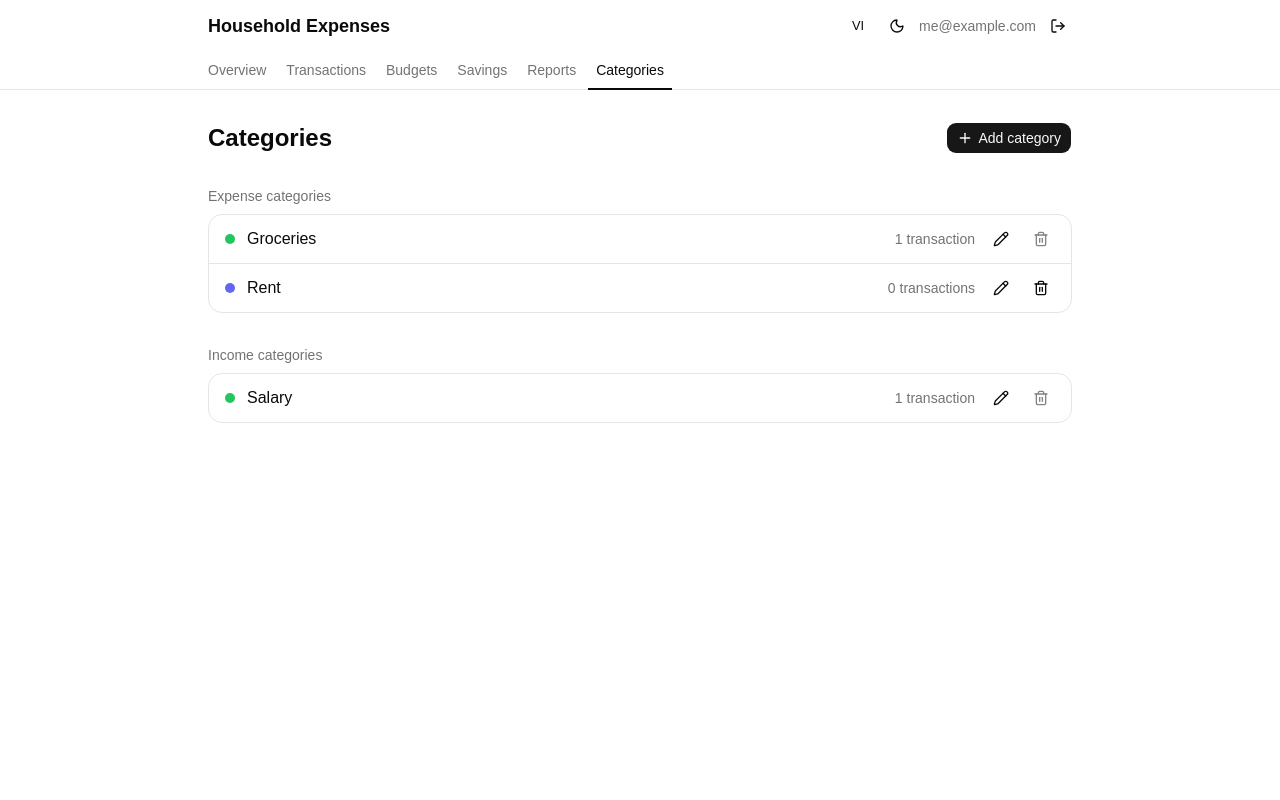
it: categories page › adds a category
This screenshot has width=1280, height=800.
Click the button "Add category". click: [1009, 138]
box: 946,122 -> 1072,154
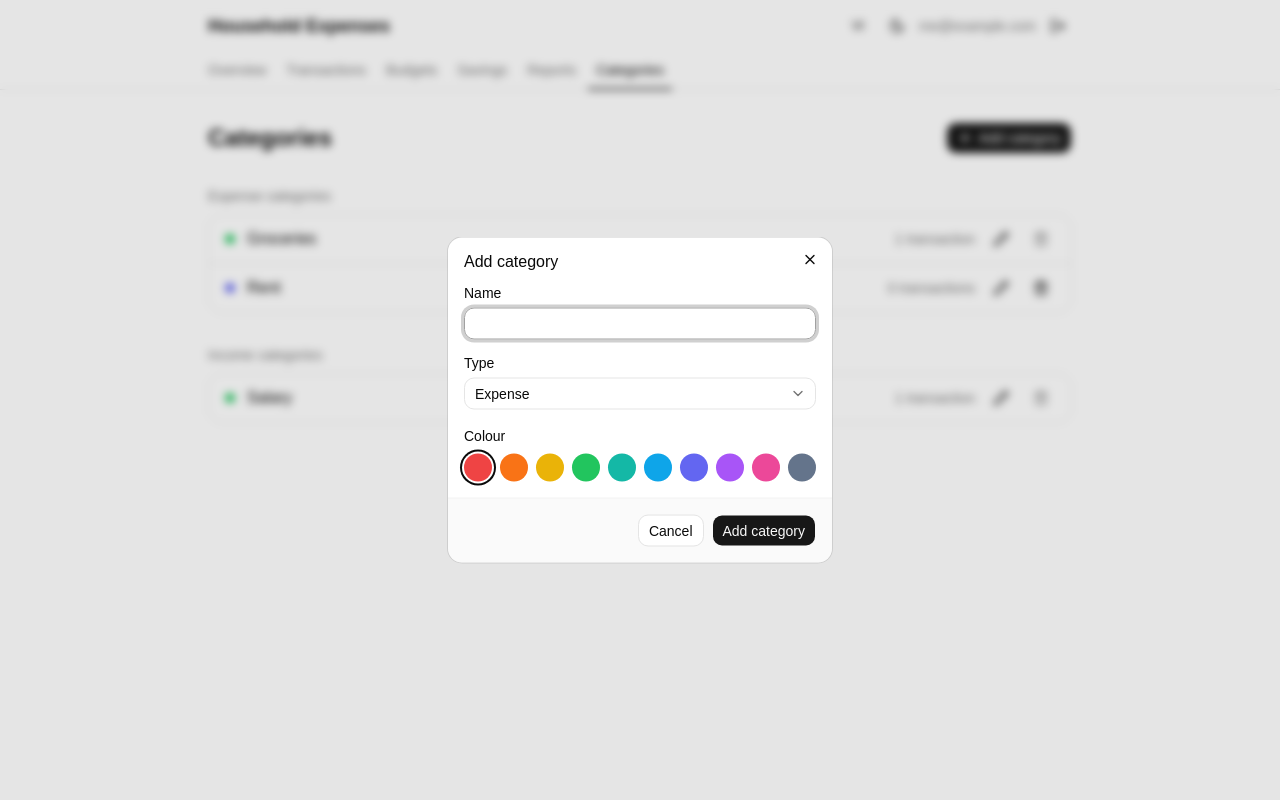
Type "Pets" into the field labelled "Name". click: [640, 324]
box: 464,308 -> 816,340
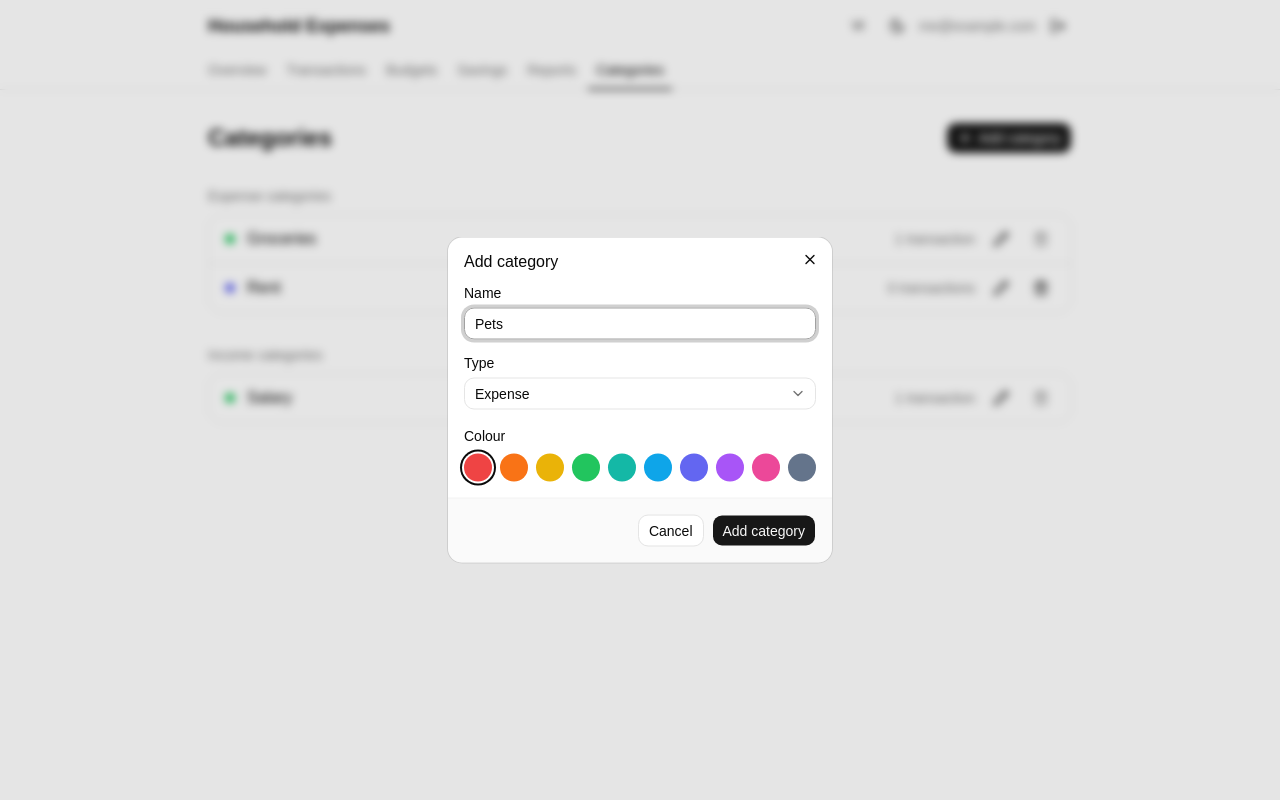
Select "Income" in the dropdown labelled "Type". click: [640, 394]
box: 464,378 -> 816,410
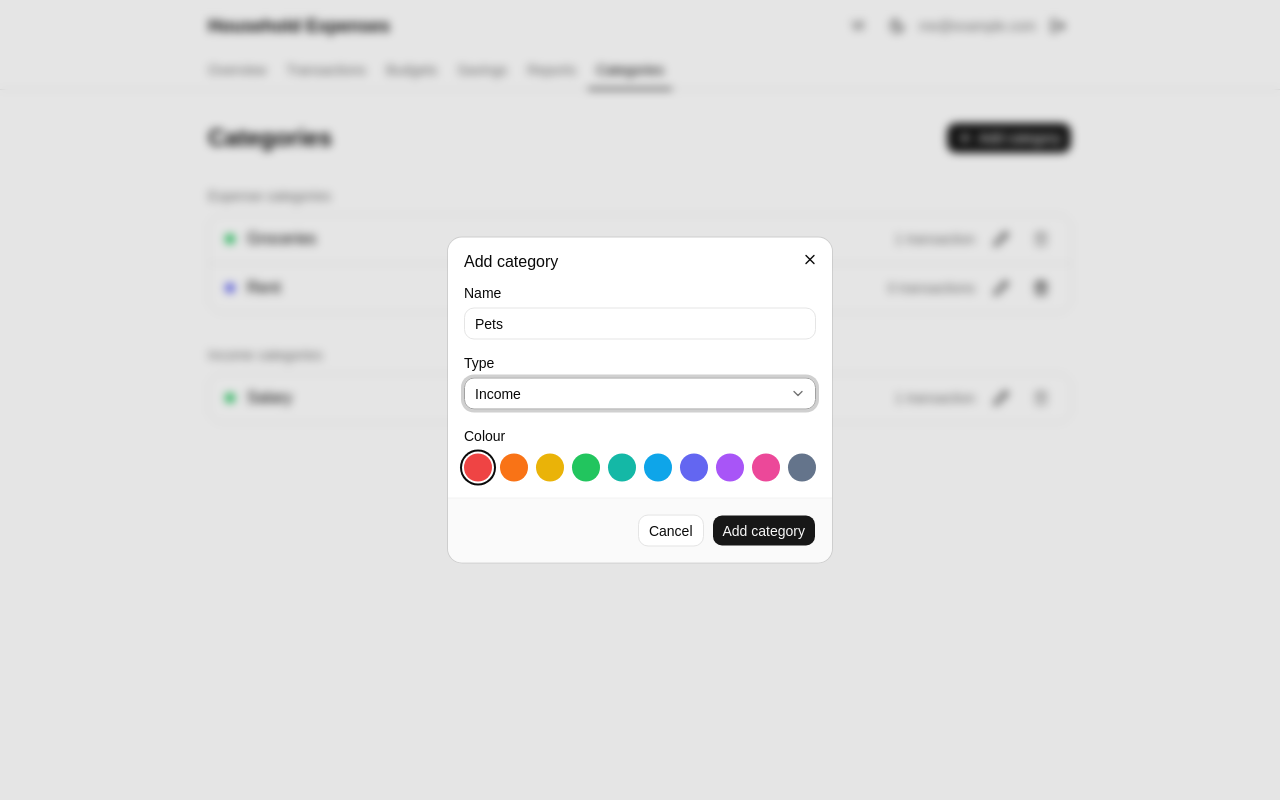
Click the radio button named "Colour 3". click: [550, 468]
box: 536,454 -> 564,482
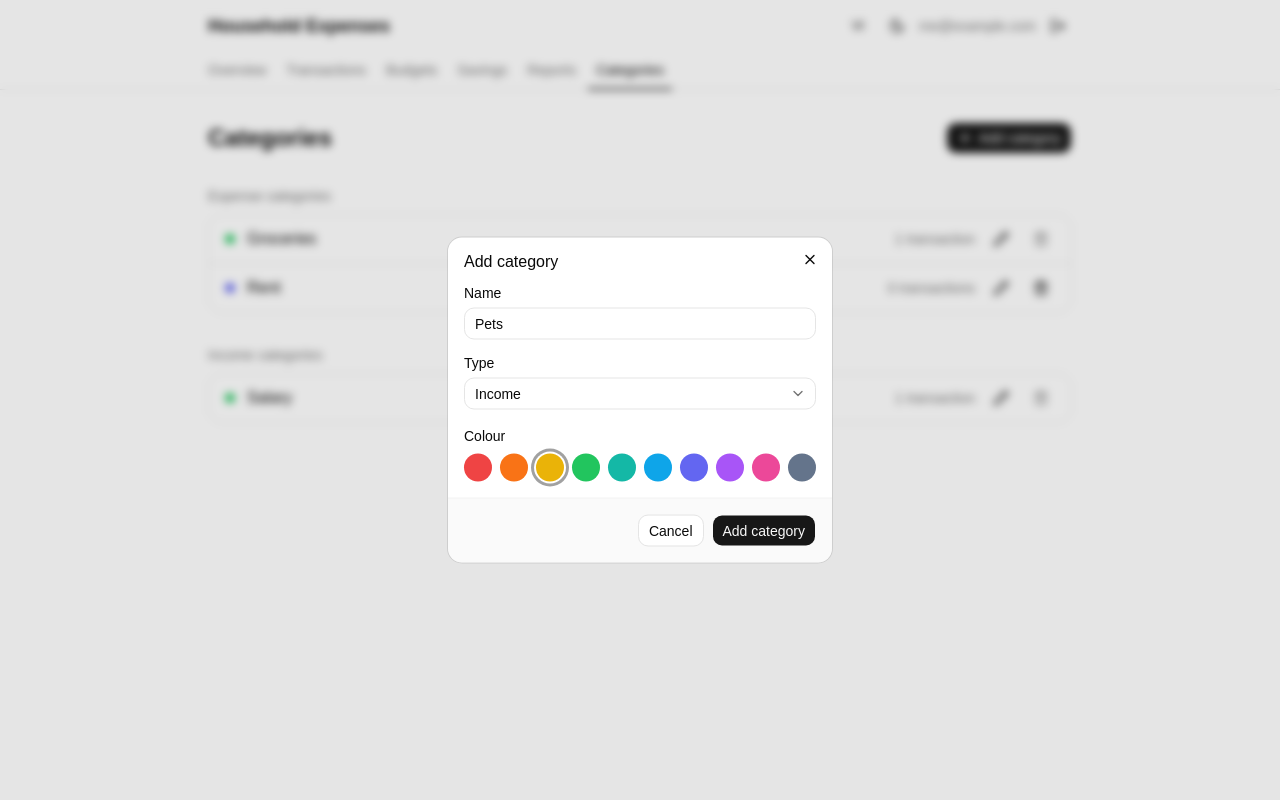
Click the button "Add category". click: [764, 530]
box: 712,514 -> 816,546
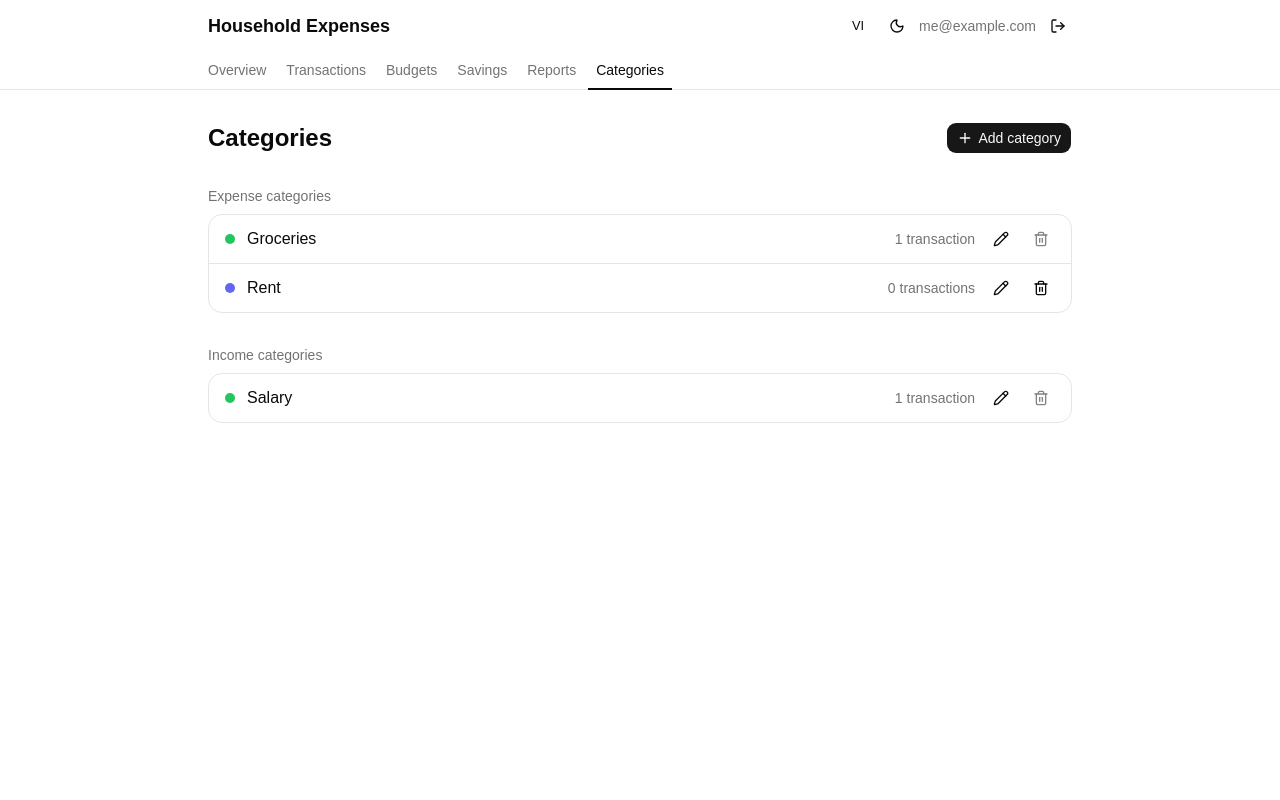
Check: the dialog is gone
